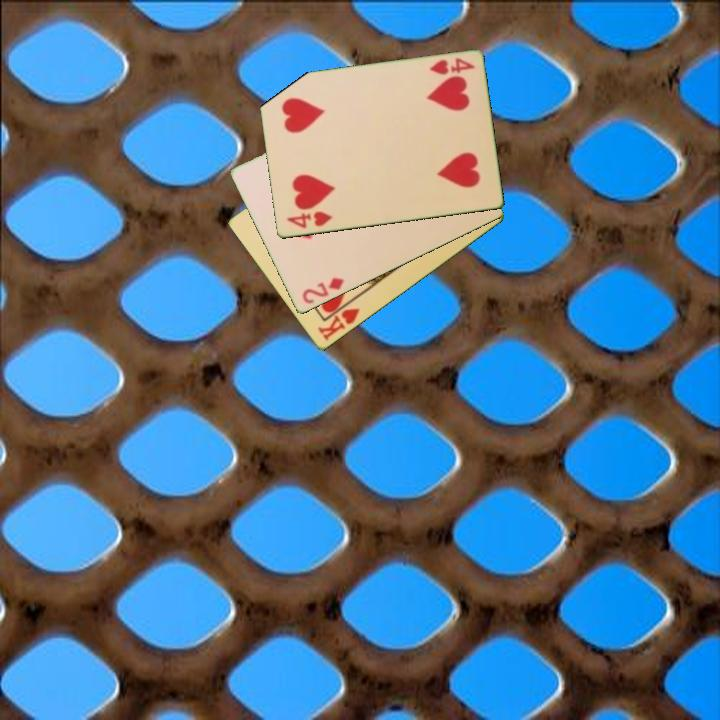2d: (299, 274, 347, 307)
4h: (283, 208, 335, 232), (426, 55, 478, 78)
Kh: (314, 296, 363, 344)
